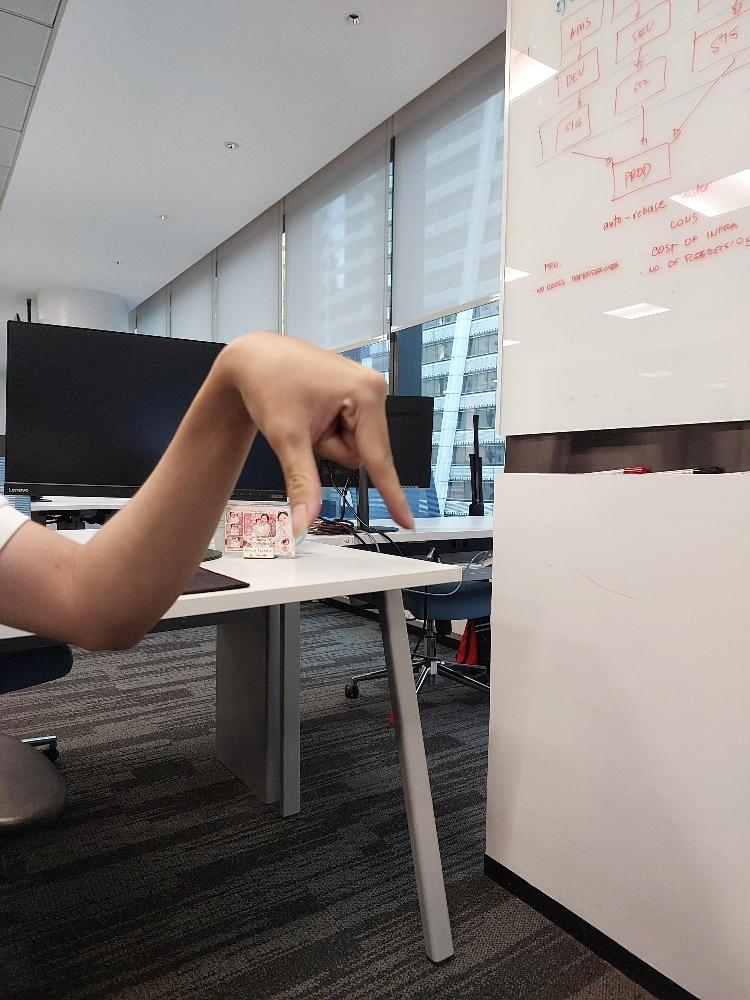q: (221, 326, 421, 539)
